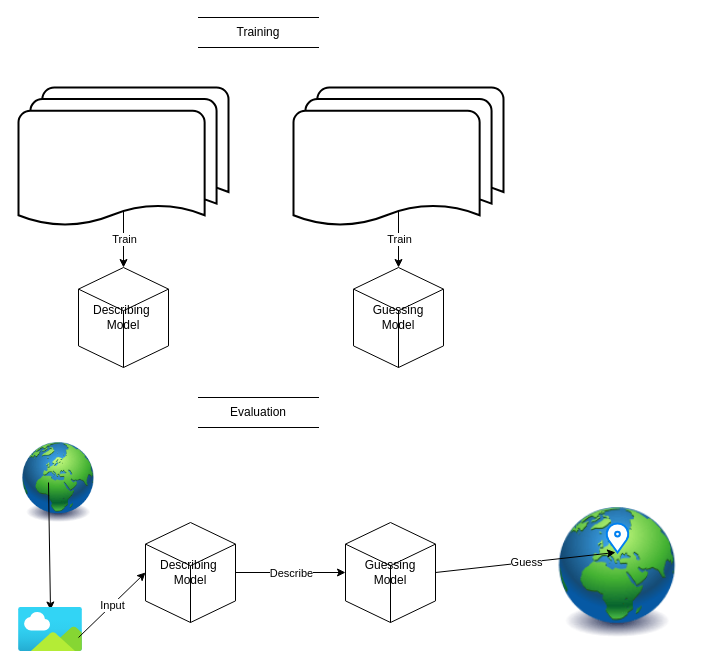
This 719x669 diagram has some shape labels left out. The shapes that lost their labels are listed below. From the top down, each one's centre as x and y in pixels, then its label:
At point 123,157: "Images with captions (Flickr dataset)".
At point 398,157: "Images with locations (Geoguessr dataset)".
